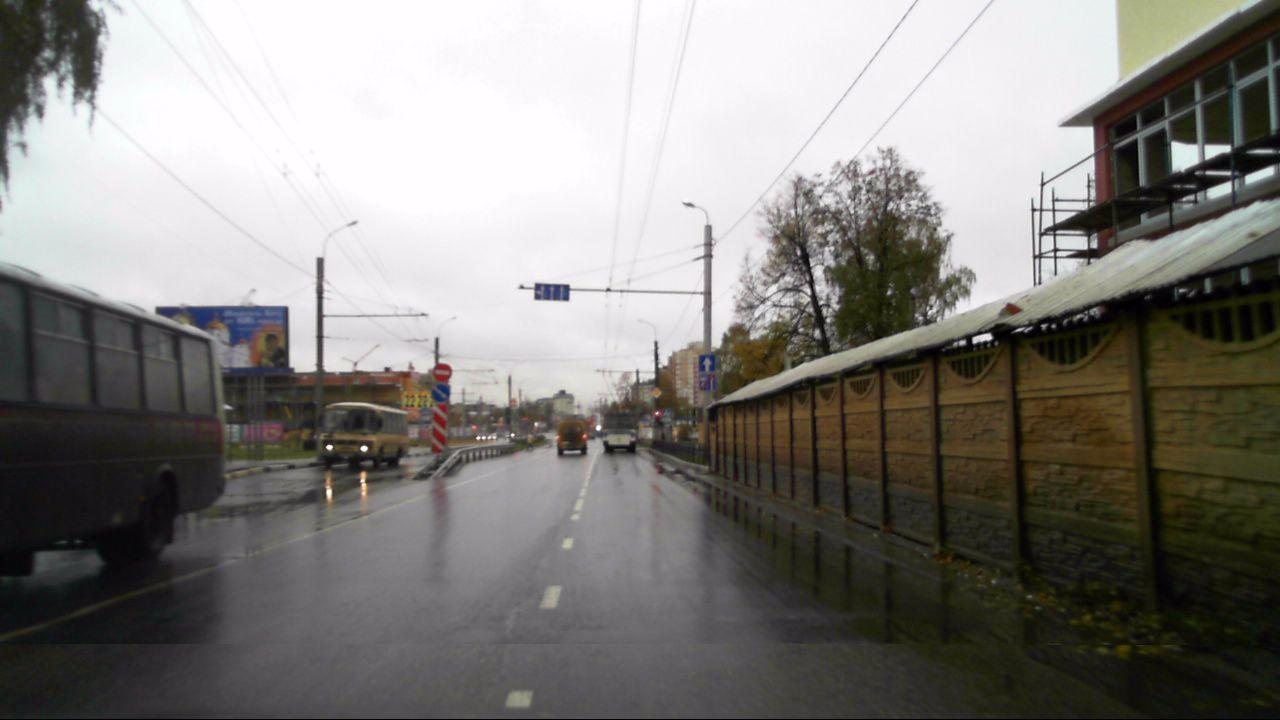2_1: (650, 387, 662, 399)
3_1: (433, 362, 451, 381)
4_2_1: (432, 383, 450, 402)
5_12_1: (699, 374, 715, 390)
5_15_1: (534, 282, 571, 302)
5_5: (699, 355, 716, 372)
8_22_1: (431, 403, 448, 453)
